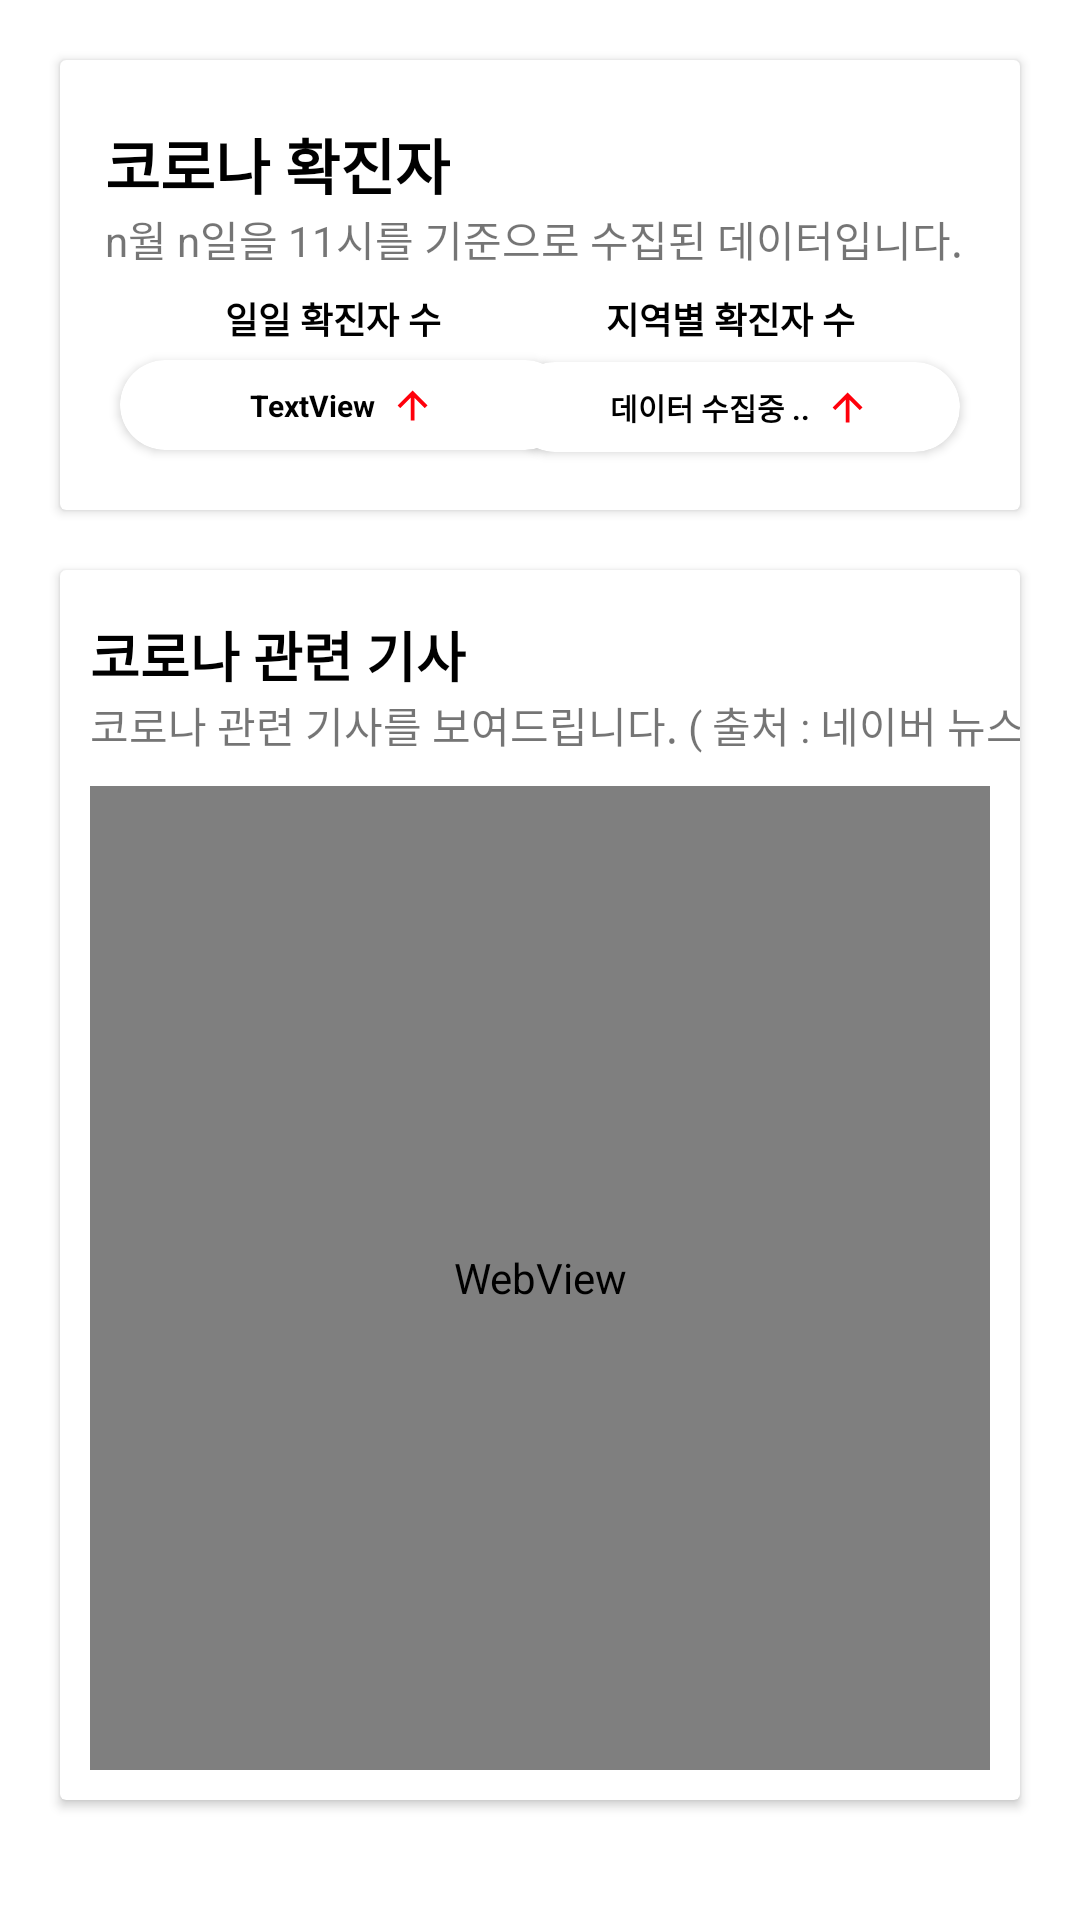

Where icons sit on this 1080px x 1920px app screen, as Rect(x1, y1, x2, y2):
arrow upward: Rect(397, 390, 428, 421), Rect(832, 392, 863, 423)
